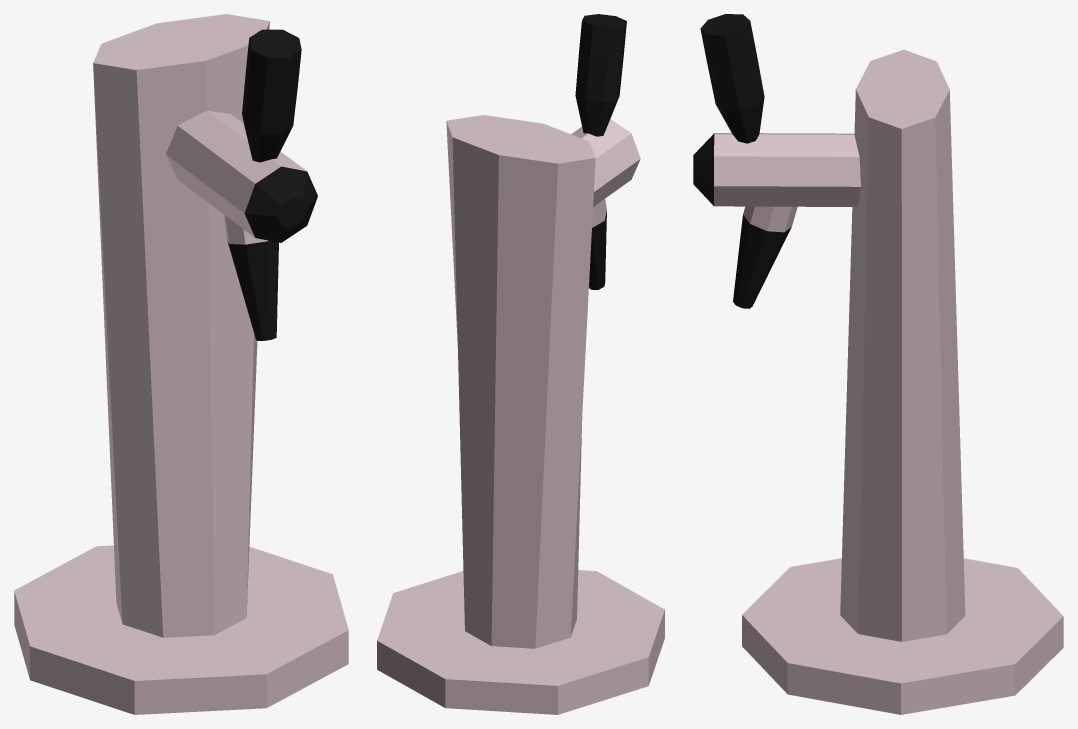
The model's file is Bar tap.fbx.
3 renders of one model, left to right at view 1: azimuth 30°, elevation 25°; view 2: azimuth 150°, elevation 25°; view 3: azimuth 270°, elevation 25°, orthographic. The views are drawn at different scales.
Visible parts, largest first — view 1: Bar tap; view 2: Bar tap; view 3: Bar tap.
Part boxes in pixels (x1,y1,x2,y2): Bar tap: (14, 14, 348, 714); Bar tap: (377, 14, 664, 714); Bar tap: (693, 14, 1063, 714).
Size of the model in its own units: 57.6 by 124 by 66.3.
